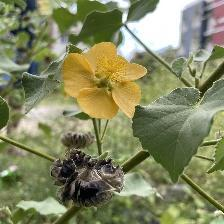indian mallow: (64, 42, 150, 122)
